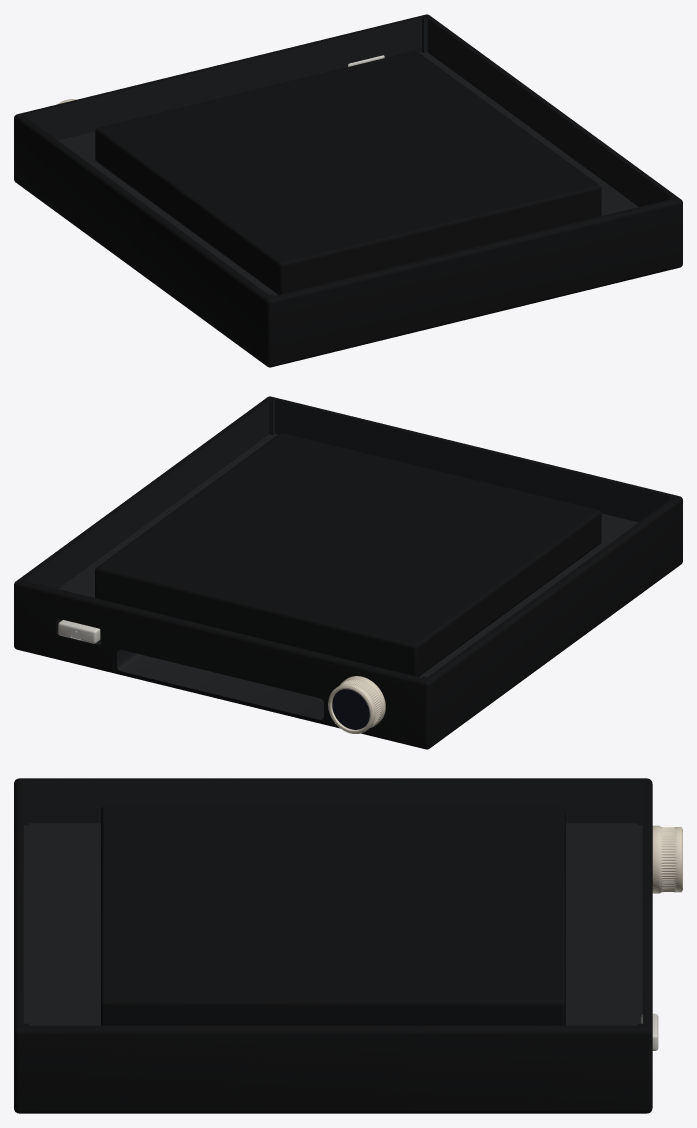
The model's file is device.glb.
3 renders of one model, top to bottom at view 1: azimuth 30°, elevation 25°; view 2: azimuth 150°, elevation 25°; view 3: azimuth 270°, elevation 25°, orthographic. The views are drawn at different scales.
Visible parts, largest first — view 1: Body, Well_Fill; view 2: Well_Fill, Body, ProjectorLens, EjectButton; view 3: Body, Well_Fill, ProjectorLens.
Part boxes in pixels (bbox=[...]): Body: bbox=[14, 14, 682, 367]; Well_Fill: bbox=[95, 50, 601, 294]; Well_Fill: bbox=[95, 433, 601, 676]; Body: bbox=[14, 396, 682, 749]; ProjectorLens: bbox=[328, 676, 385, 733]; EjectButton: bbox=[58, 620, 100, 643]; Body: bbox=[14, 778, 652, 1113]; Well_Fill: bbox=[101, 806, 565, 1025]; ProjectorLens: bbox=[652, 825, 682, 893].
Size of what is drawn, in the model's own units: 0.0924 by 0.0145 by 0.1032.
Materials: 8 (1 with a texture image).
